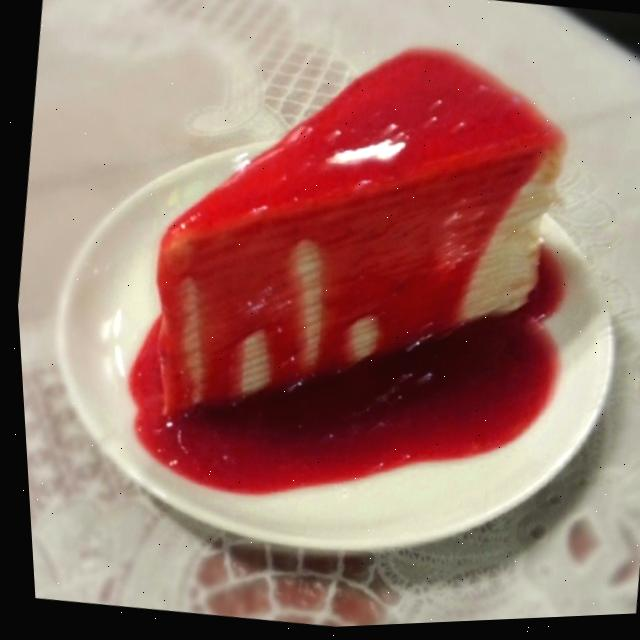蛋糕甜品: (27, 0, 639, 581)
